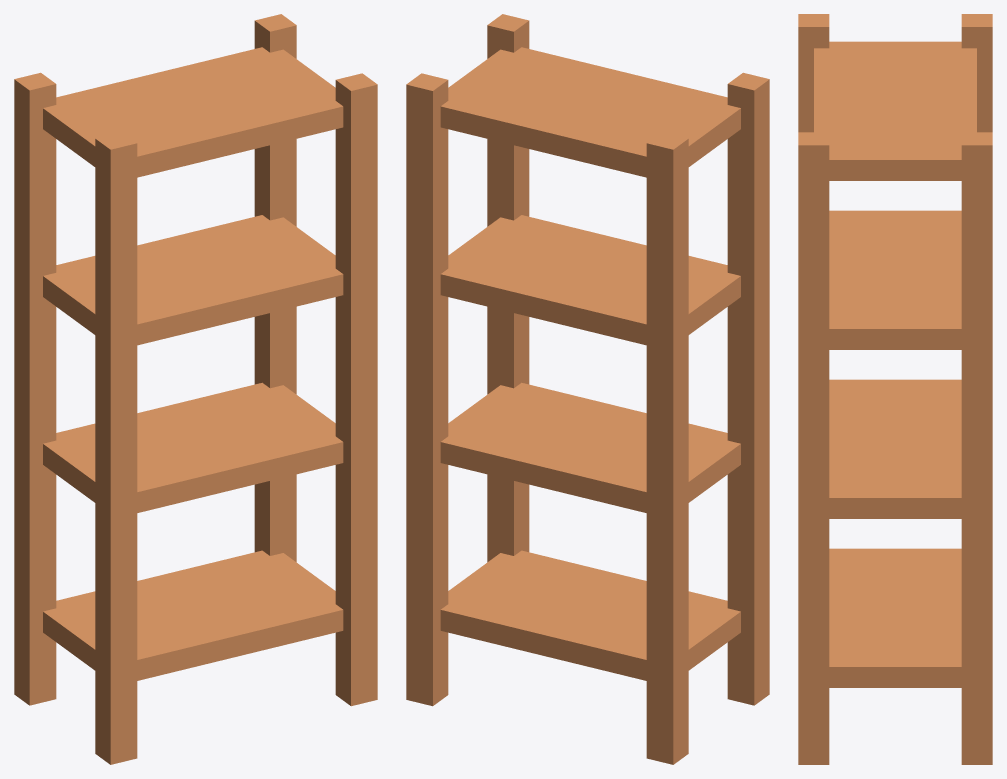
The model's file is BookcaseOpen.glb.
The picture shows the model from 3 angles, left to right: view 1: azimuth 30°, elevation 25°; view 2: azimuth 150°, elevation 25°; view 3: azimuth 270°, elevation 25°; orthographic projection.
Parts seen in each view (by area): view 1: BookcaseOpen; view 2: BookcaseOpen; view 3: BookcaseOpen.
Part boxes in pixels (x1=…): BookcaseOpen: x1=14, y1=14, x2=377, y2=764; BookcaseOpen: x1=406, y1=14, x2=769, y2=764; BookcaseOpen: x1=798, y1=14, x2=992, y2=764.
Size of the model in its own units: 0.781 by 1.72 by 0.4881.
